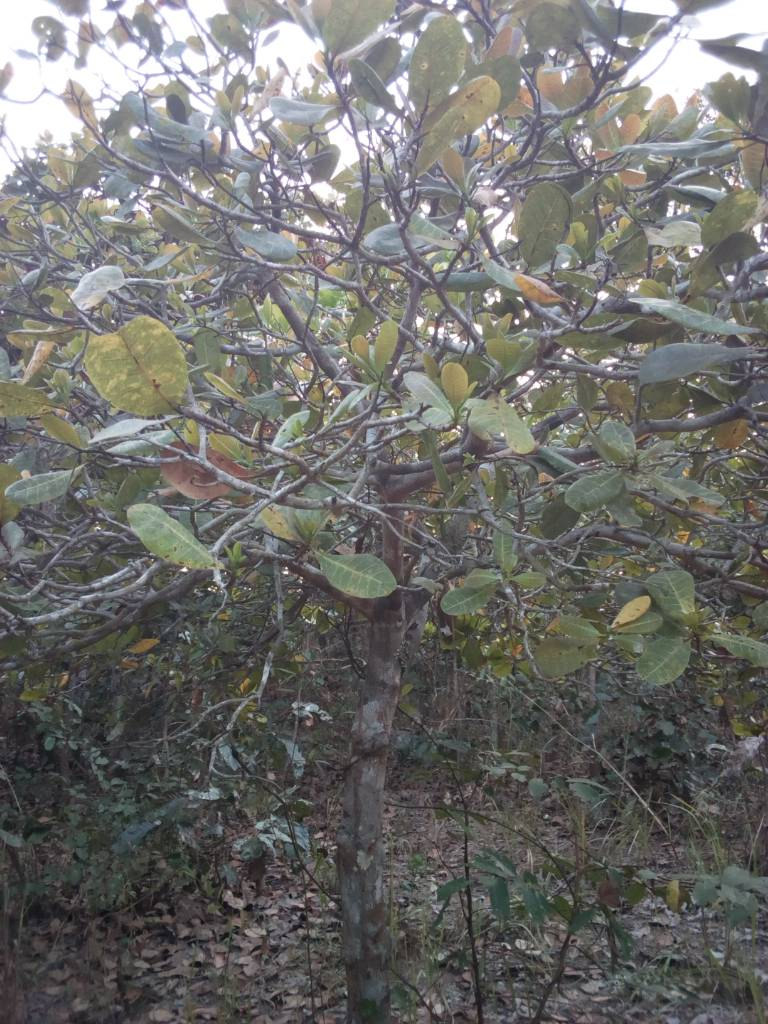Alternariose: (86, 328, 193, 417), (1, 382, 65, 421)
